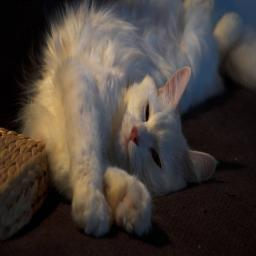catnose: (129, 122, 143, 149)
